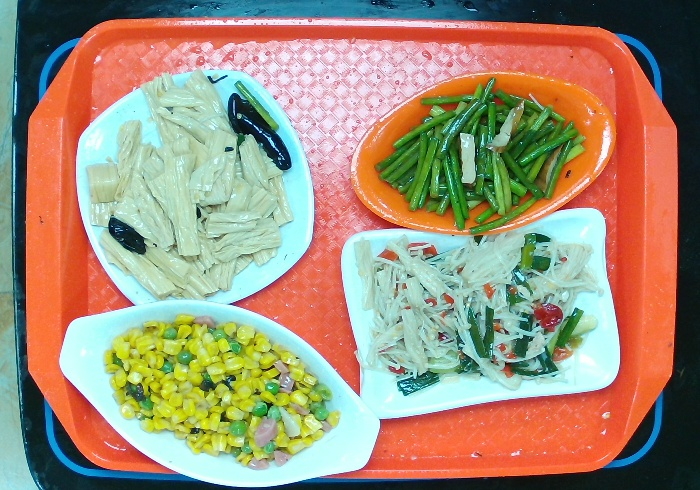RJxy-Ju_Huang_Tuo_Yuan: (347, 67, 620, 239)
RJxy-Si_Fang_Ao_Bian_Wan: (338, 205, 626, 424)
RJxy-Si_Fang_Die: (71, 68, 321, 312)
RJxy-Yu_Pan: (55, 297, 385, 490)
